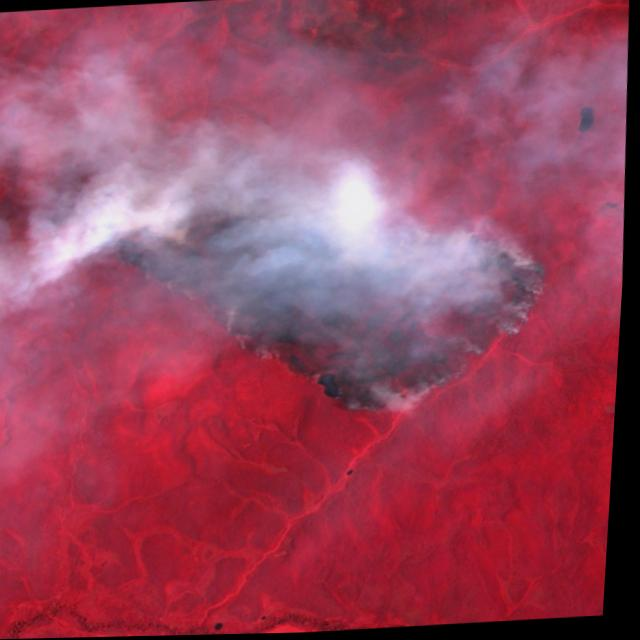fire: (86, 179, 554, 434)
